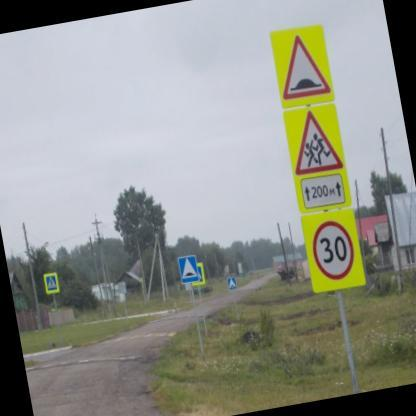obstructed_road_sign: (192, 262, 206, 286)
road_sign: (271, 25, 334, 107), (302, 209, 362, 293), (283, 104, 345, 173), (294, 169, 351, 213), (178, 256, 199, 283), (44, 272, 60, 294)
